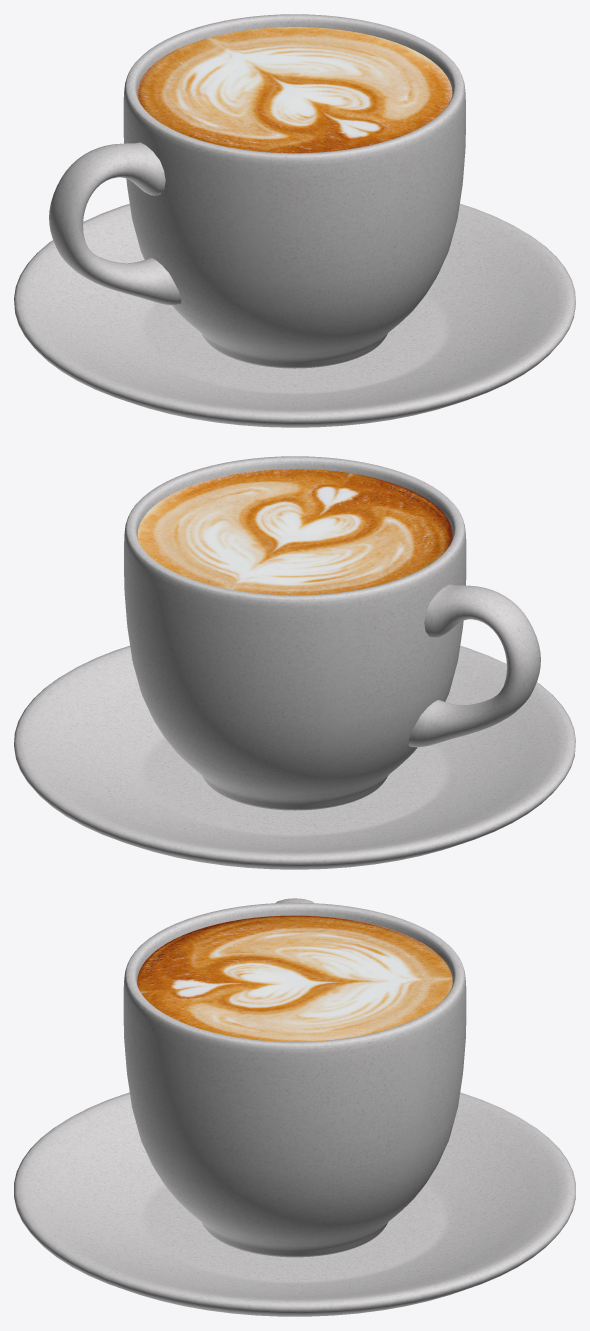
The model's file is latte.glb.
3 views of the same model, one above another, from view 1: azimuth 30°, elevation 25°; view 2: azimuth 150°, elevation 25°; view 3: azimuth 270°, elevation 25° (orthographic).
Visible parts, largest first — view 1: Cup Of Coffee; view 2: Cup Of Coffee; view 3: Cup Of Coffee.
Part boxes in pixels (x1,y1,x2,y2): Cup Of Coffee: (14, 14, 575, 427); Cup Of Coffee: (14, 456, 575, 869); Cup Of Coffee: (14, 898, 575, 1316).
Bounding box in the file's own units: 0.1017 × 0.0538 × 0.1017.
2 materials, 2 textured.
